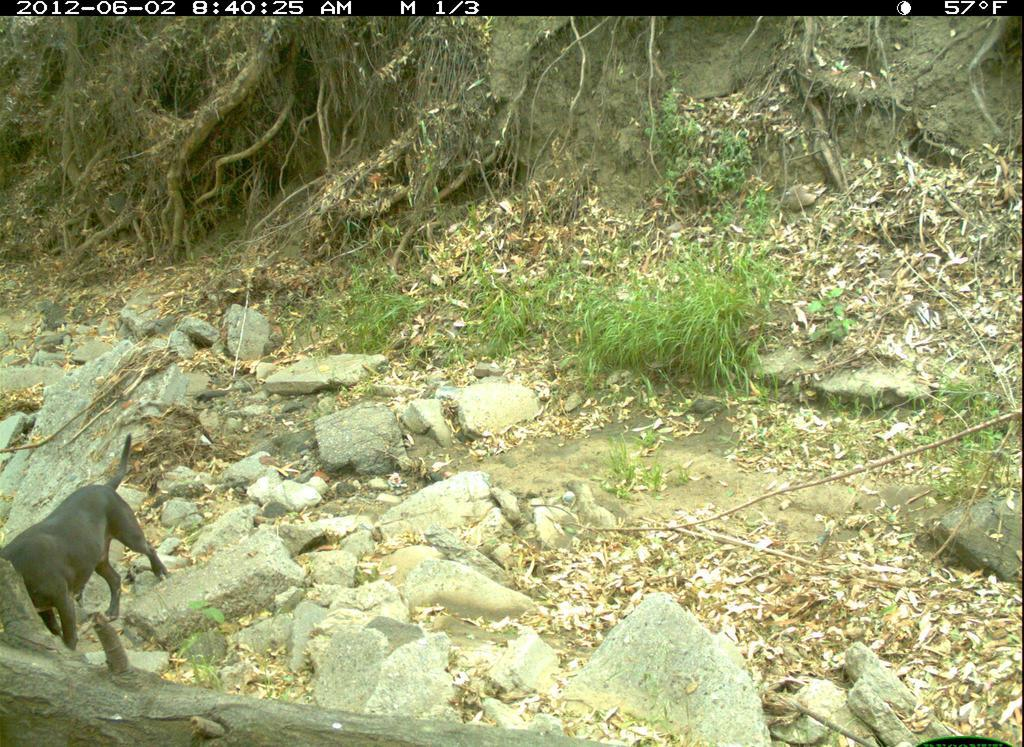dog: (1, 429, 180, 656)
